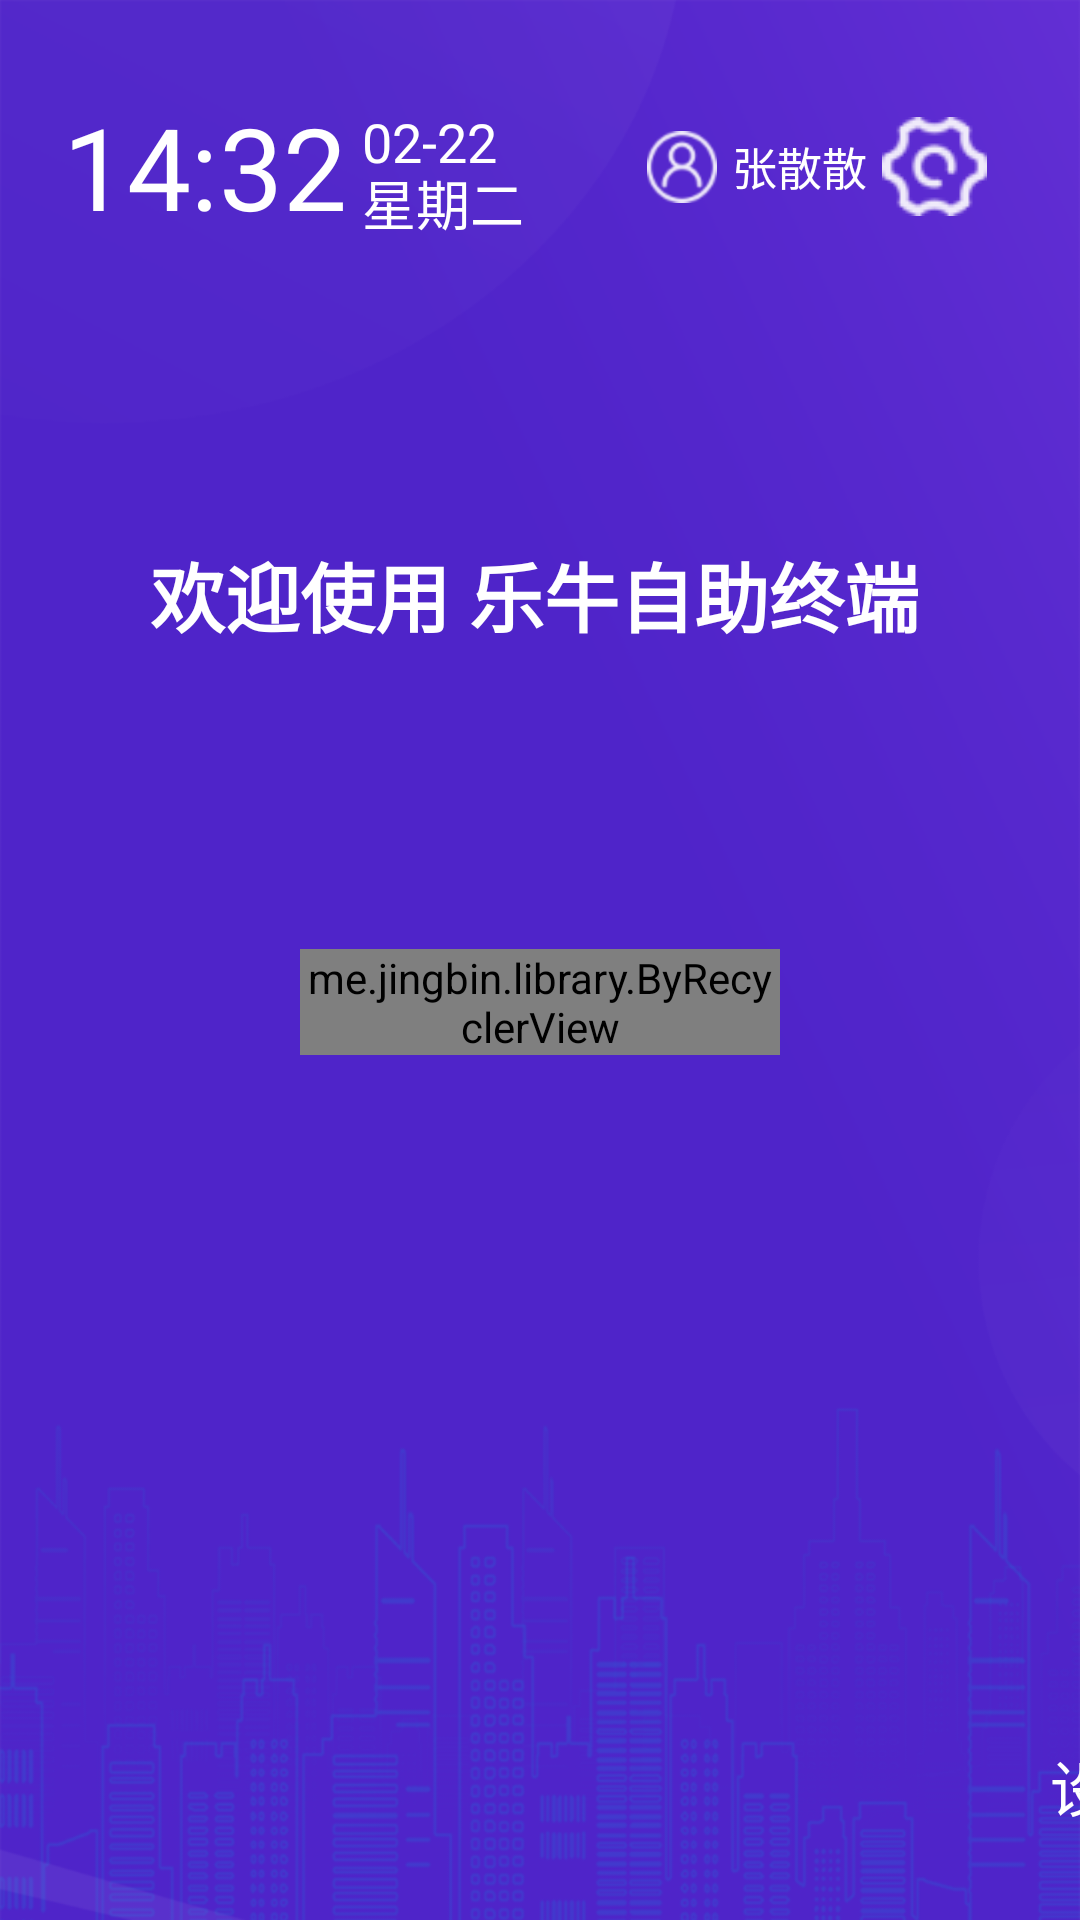

Screen size 1080×1920. Icon name, then its box in pixels as bbox(x1, y1, x2, y2):
setting: bbox(882, 117, 987, 216)
